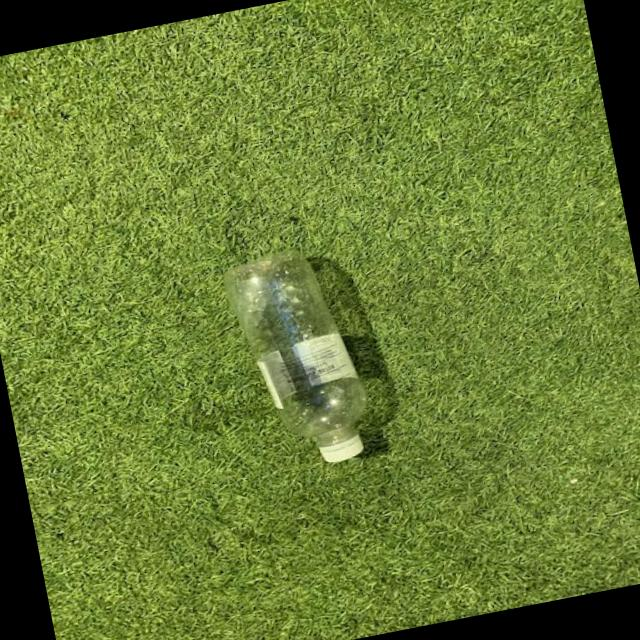plastic_bottle: (220, 240, 378, 476)
